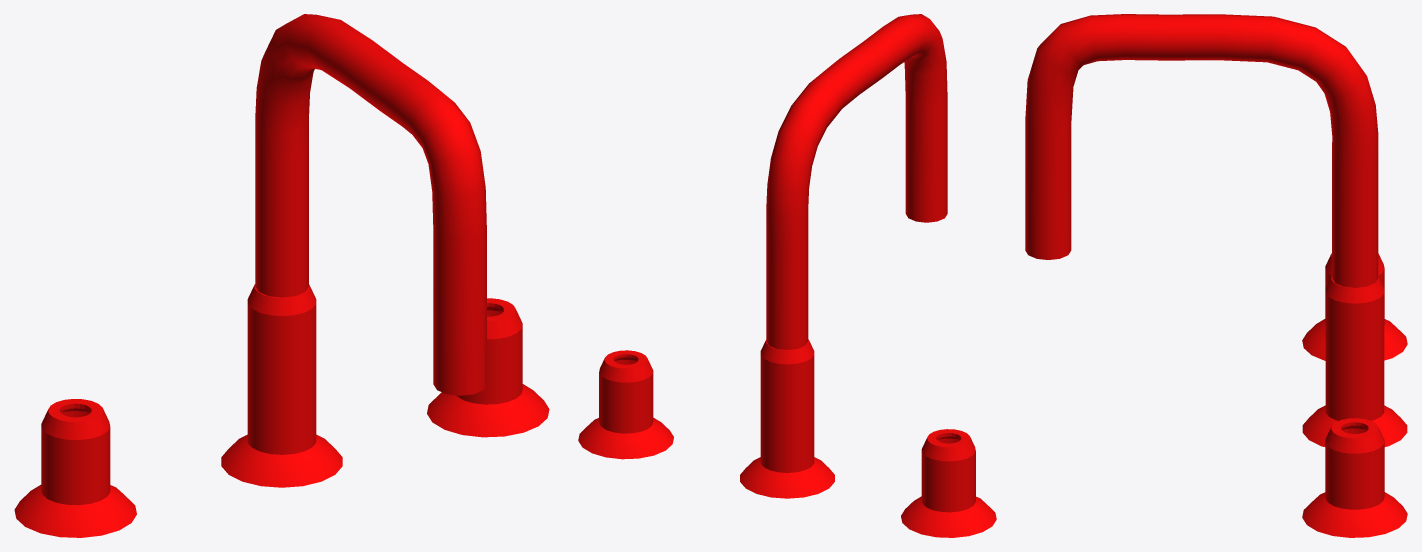
File: SM_Ba_WaterTap.fbx
3 renders of one model, left to right at view 1: azimuth 30°, elevation 25°; view 2: azimuth 150°, elevation 25°; view 3: azimuth 270°, elevation 25°, orthographic. The views are drawn at different scales.
Visible parts, largest first — view 1: Sink.003; view 2: Sink.003; view 3: Sink.003.
Boxes of the visible parts, x1,y1,x2,y2 form: Sink.003: (14,14,549,537); Sink.003: (578,14,996,537); Sink.003: (1025,14,1407,537).
Bounding box in the file's own units: 30.7 × 27.14 × 22.78.
